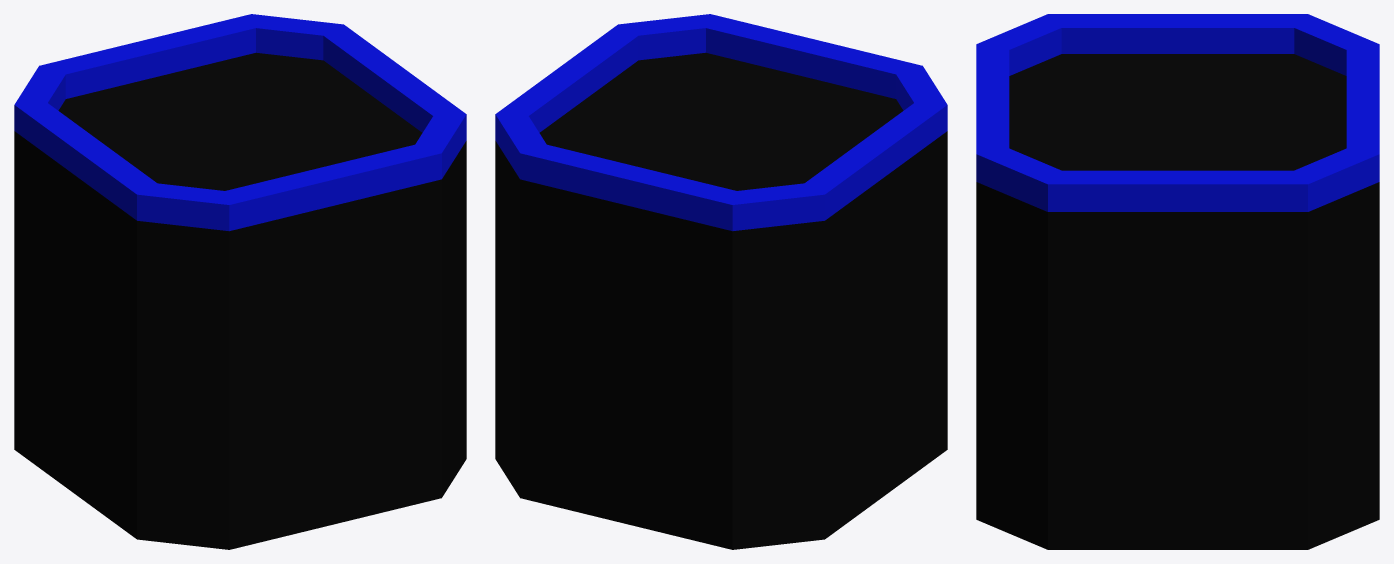
File: mdl_zesty_powernodeoff.gltf
3 views of the same model, side by side, from view 1: azimuth 30°, elevation 25°; view 2: azimuth 150°, elevation 25°; view 3: azimuth 270°, elevation 25° (orthographic). The views are drawn at different scales.
Parts seen in each view (by area): view 1: mdl_zesty_powernodeoff; view 2: mdl_zesty_powernodeoff; view 3: mdl_zesty_powernodeoff.
Boxes of the visible parts, x1,y1,x2,y2 form: mdl_zesty_powernodeoff: (14, 14, 466, 549); mdl_zesty_powernodeoff: (495, 14, 947, 549); mdl_zesty_powernodeoff: (976, 14, 1379, 549).
Size of the model in its own units: 0.1 by 0.1 by 0.1.
